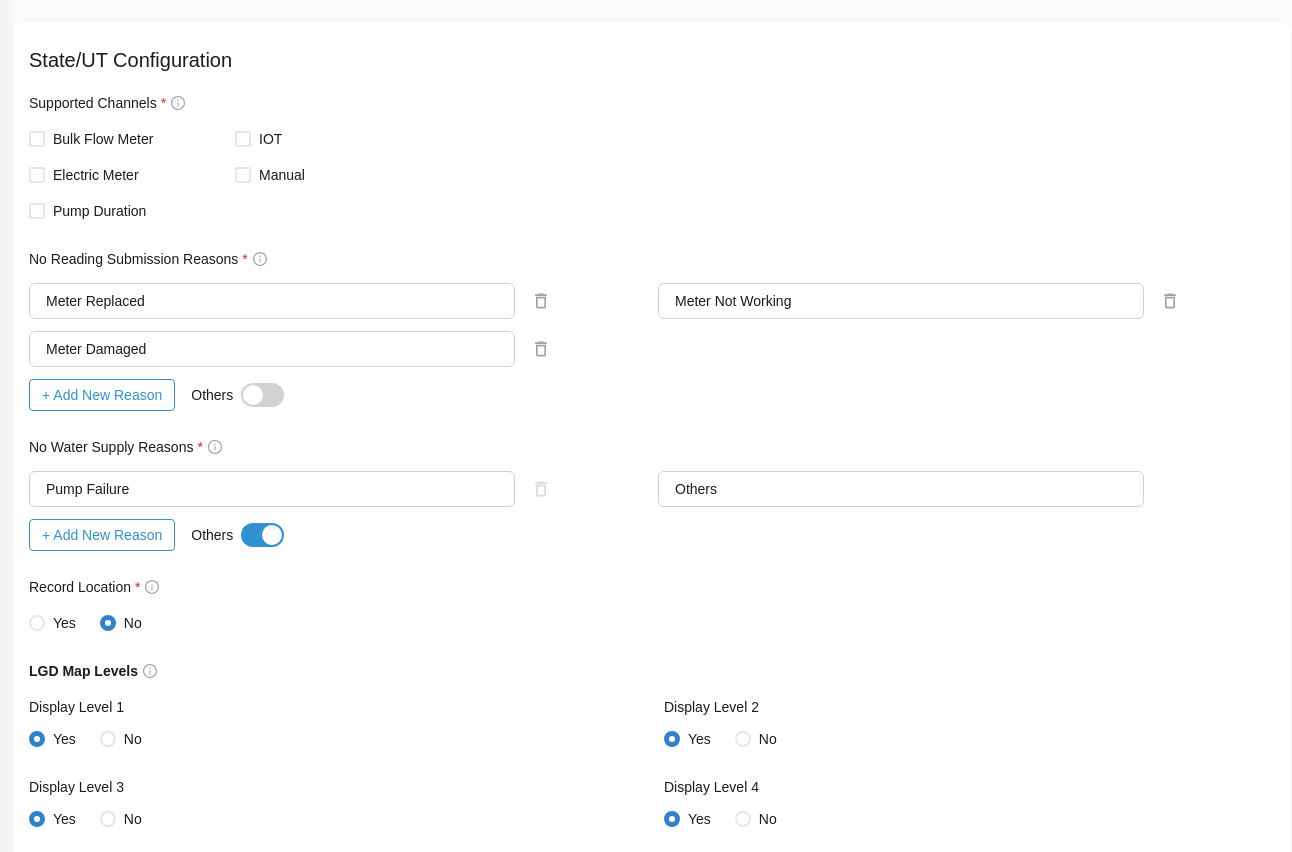
Test: ConfigurationPage › shows inline error for empty meter change reason on save
The width and height of the screenshot is (1292, 852).
What coordinates should you click on to do the following:
click the button "+ Add New Reason" below "No Reading Submission Reasons"
I would click on:
 (102, 395)
Its box is [29,379,175,411].
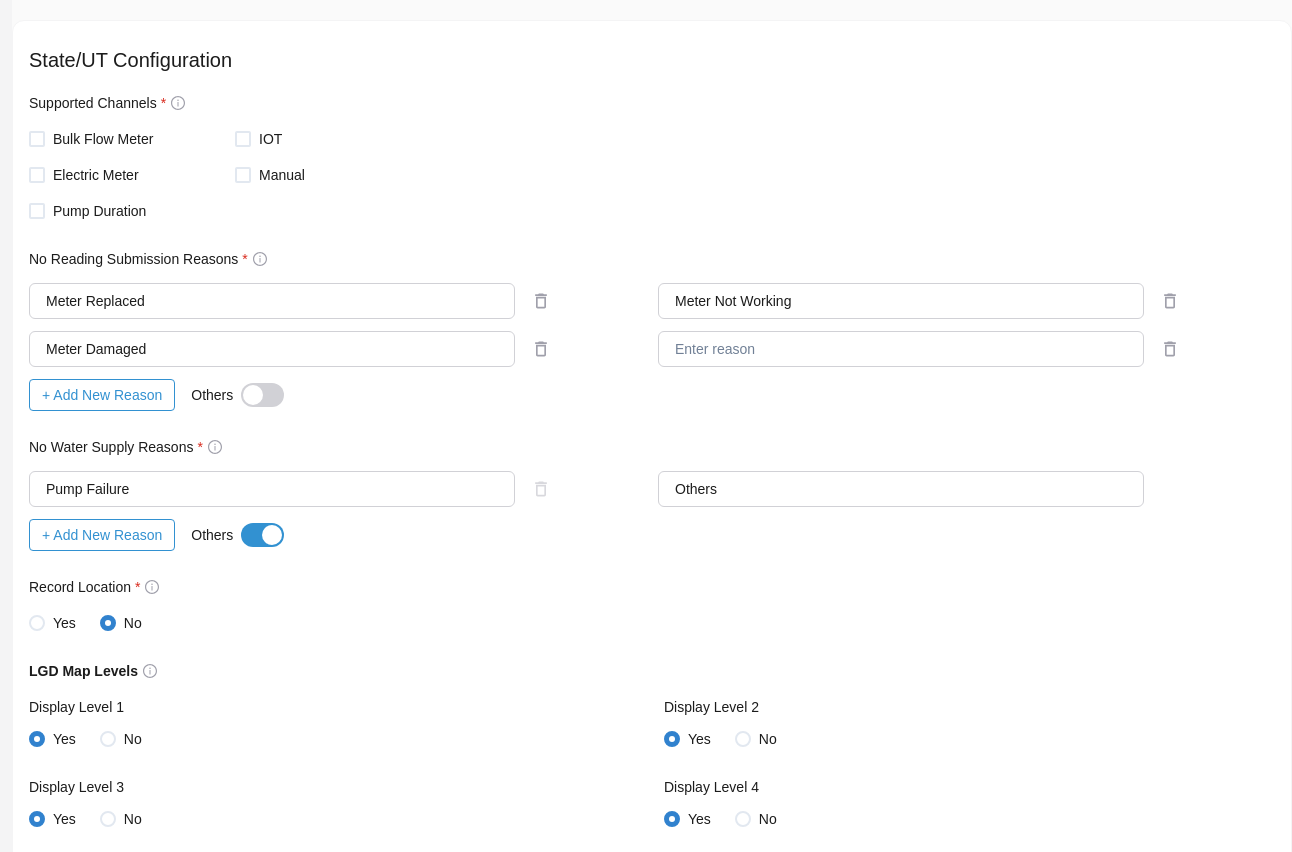
Select a channel so that validation passes for channels
What coordinates should you click on to do the following:
click the text "IOT"
I would click on:
 (271, 139)
Its box is [259,127,282,151].
(page scrolled)
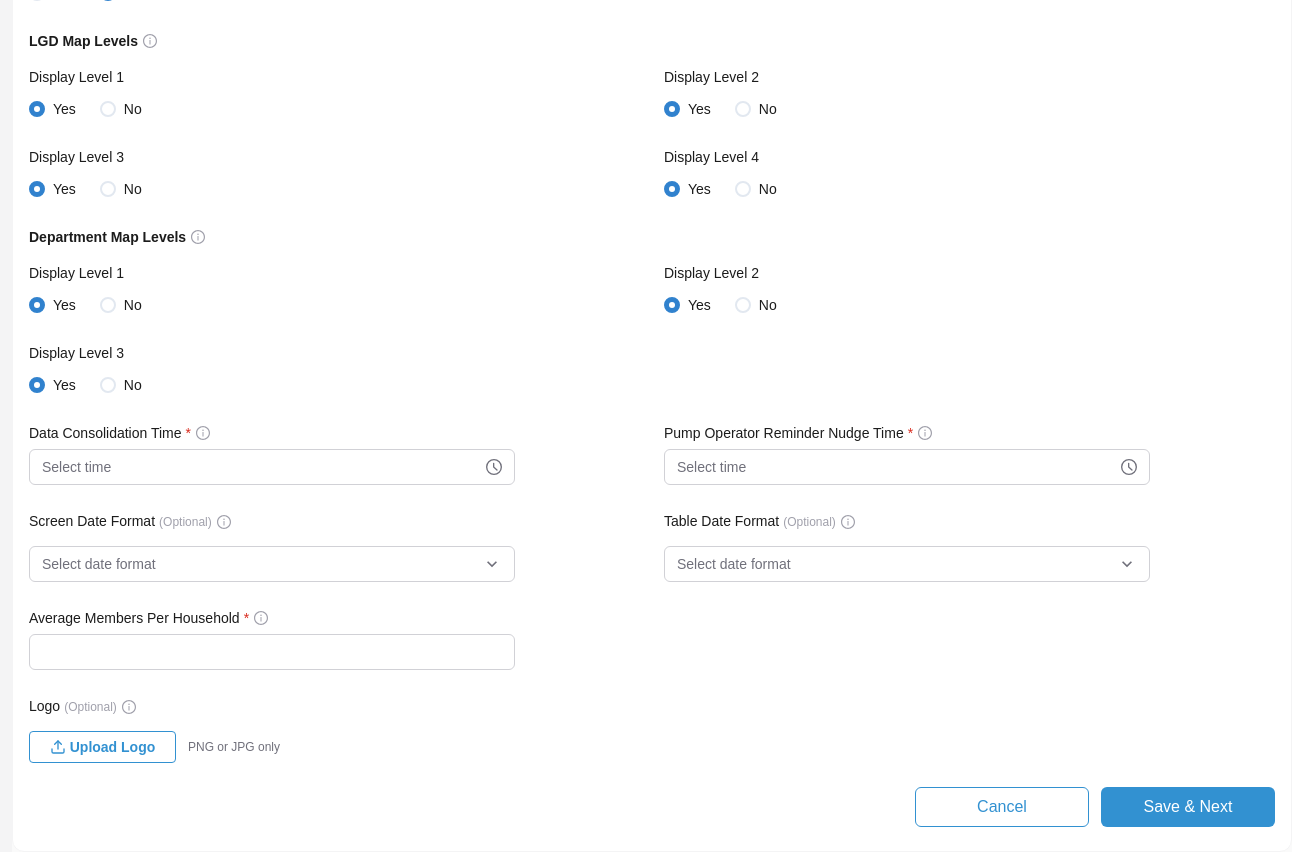
What coordinates should you click on to do the following:
click the button "Save & Next"
I would click on:
 (1188, 807)
Its box is [1101,787,1275,827].
(page scrolled)
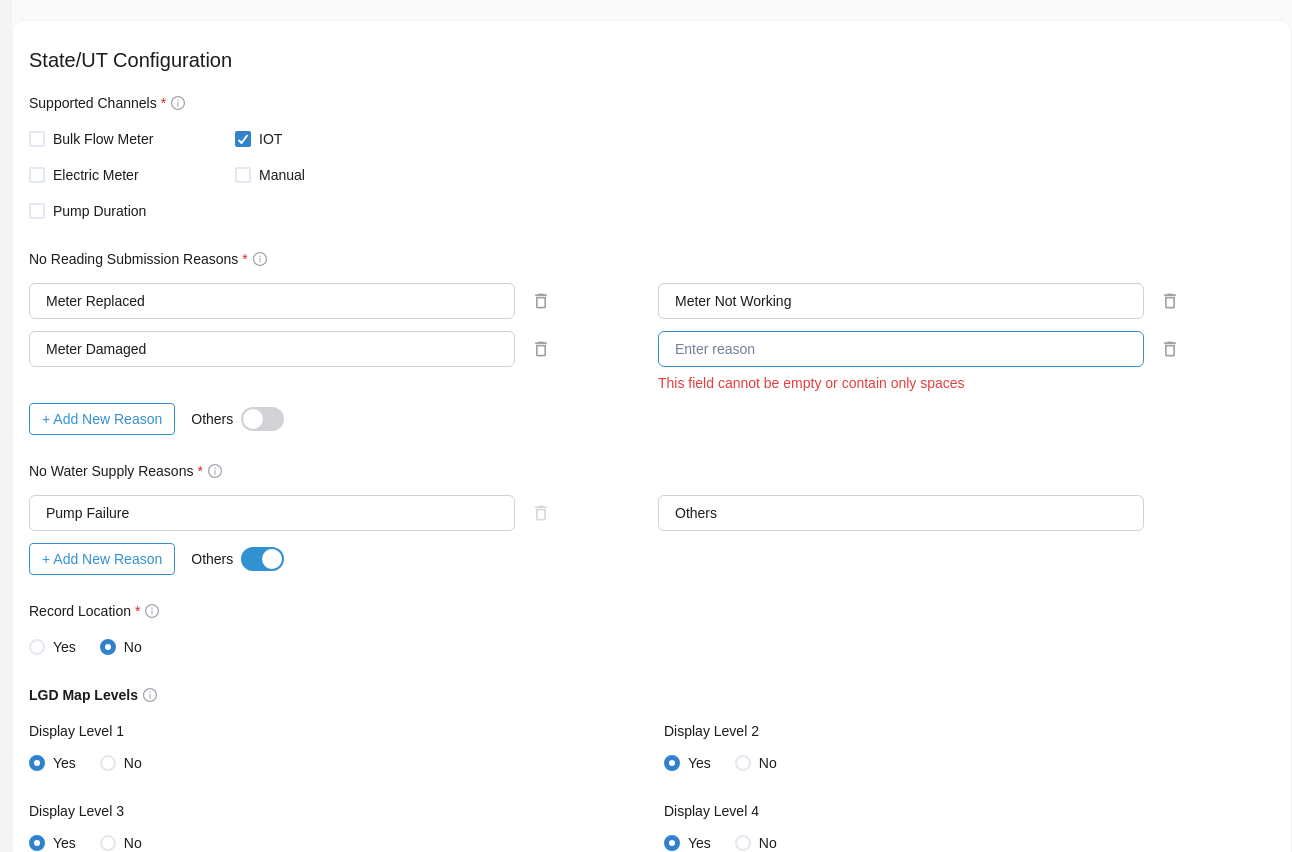
expect the text "This field cannot be empty or contain only spaces" is shown: met, box [658,375,965,391]
